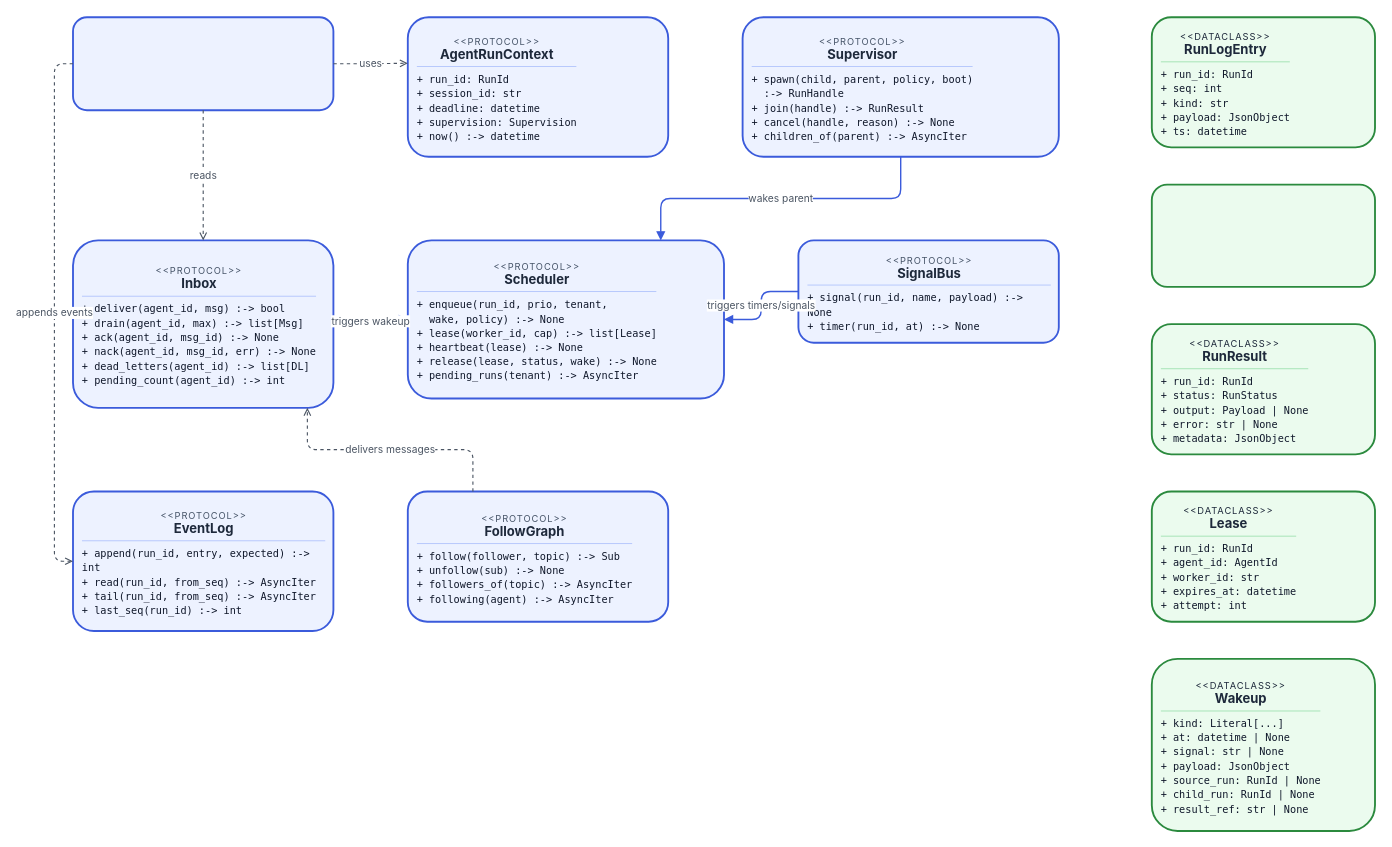
Some shapes in this 1392 by 847 pixel diagram are drawn without their labels. The shapes that lost their labels are listed below. From the top down, each one's centre as x and y in pixels, then its label:
the point at 203,63: <<Protocol>> Agent + run(ctx, inbox) :-> None
the point at 1262,235: <<DataClass>> RunHandle + run_id: RunId + agent_id: AgentId + parent_run: RunId
